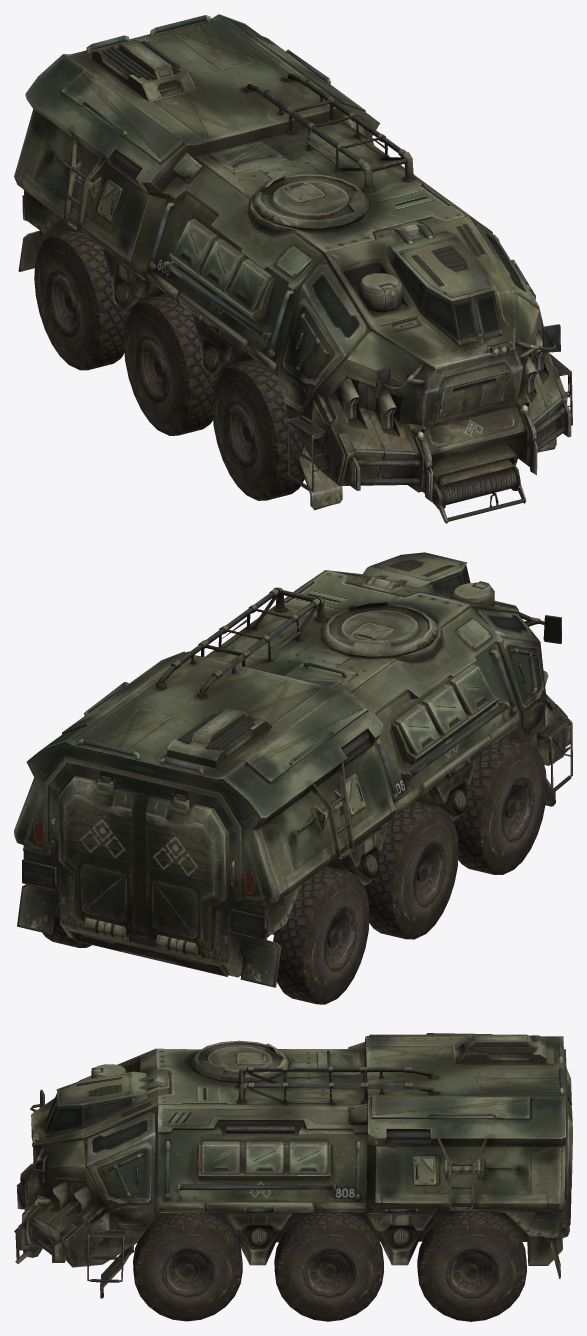
The model's file is ArmoredVehicles.glb.
3 renders of one model, top to bottom at view 1: azimuth 30°, elevation 25°; view 2: azimuth 150°, elevation 25°; view 3: azimuth 270°, elevation 25°, orthographic. The views are drawn at different scales.
Visible parts, largest first — view 1: ArmoredVehicles; view 2: ArmoredVehicles; view 3: ArmoredVehicles.
Part boxes in pixels (box(x1,y1,x2,y2)): ArmoredVehicles: box(14, 14, 572, 523); ArmoredVehicles: box(14, 552, 572, 1004); ArmoredVehicles: box(14, 1033, 572, 1321).
Size of the model in its own units: 0.0137 by 0.0128 by 0.0299.
1 material, 1 textured.
